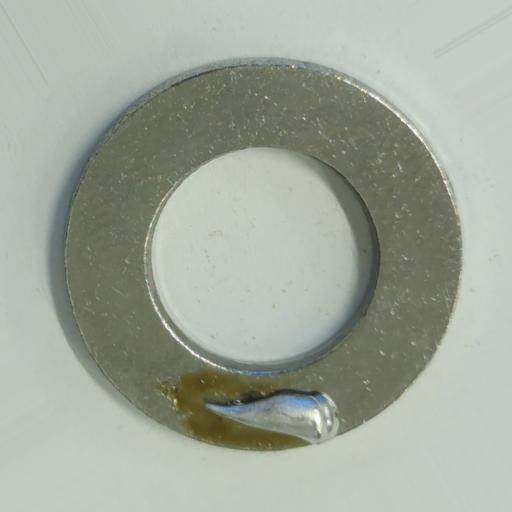excess_material: (200, 385, 339, 445)
